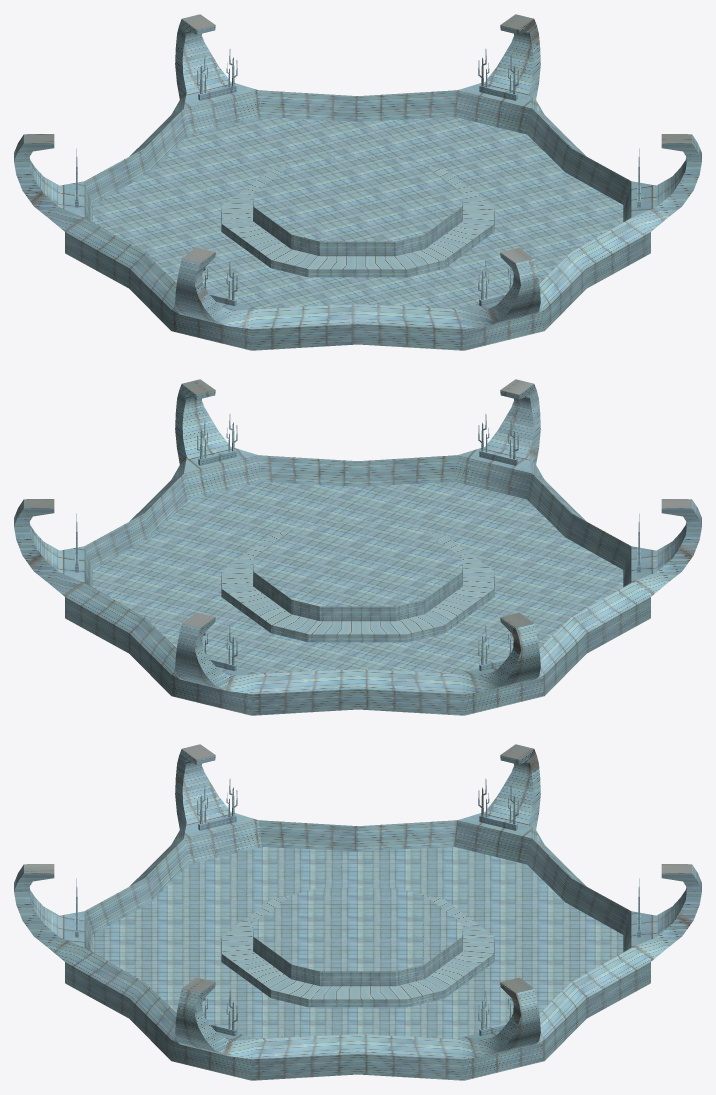
The model's file is Station_floor.fbx.
The picture shows the model from 3 angles, top to bottom: view 1: azimuth 30°, elevation 25°; view 2: azimuth 150°, elevation 25°; view 3: azimuth 270°, elevation 25°; orthographic projection.
Visible parts, largest first — view 1: Station_floor; view 2: Station_floor; view 3: Station_floor.
Part boxes in pixels (x1,y1,x2,y2): Station_floor: [14, 14, 701, 350]; Station_floor: [14, 379, 701, 715]; Station_floor: [14, 744, 701, 1080].
Size of the model in its own units: 15100 by 2611 by 17139.
